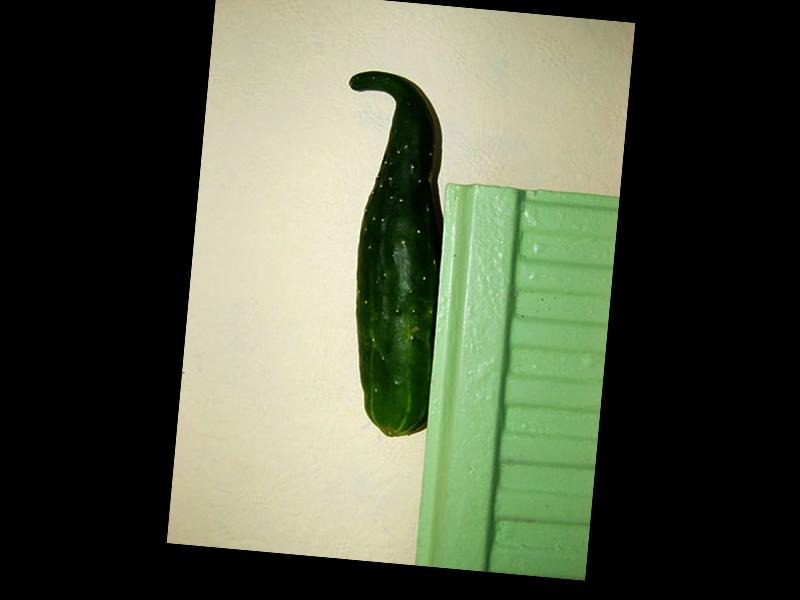Cucumber: (319, 67, 458, 438)
